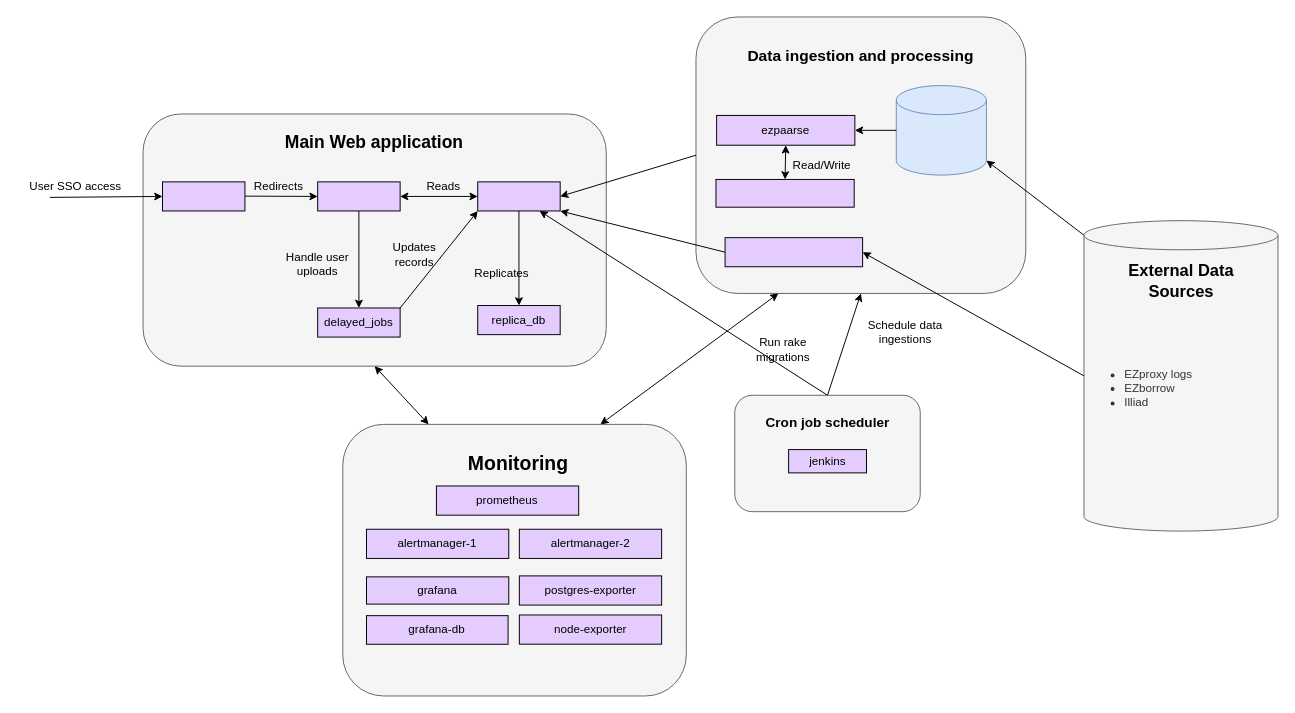
This 1295x713 diagram has some shape labels left out. The centre of each missing label's shape, as x and y in pixels:
app: (358,196)
asg02 mdlogdata fileshare: (940,130)
ezpaarse_db: (784,192)
primary_db: (518,196)
python_jobs: (793,252)
shibboleth: (203,196)
